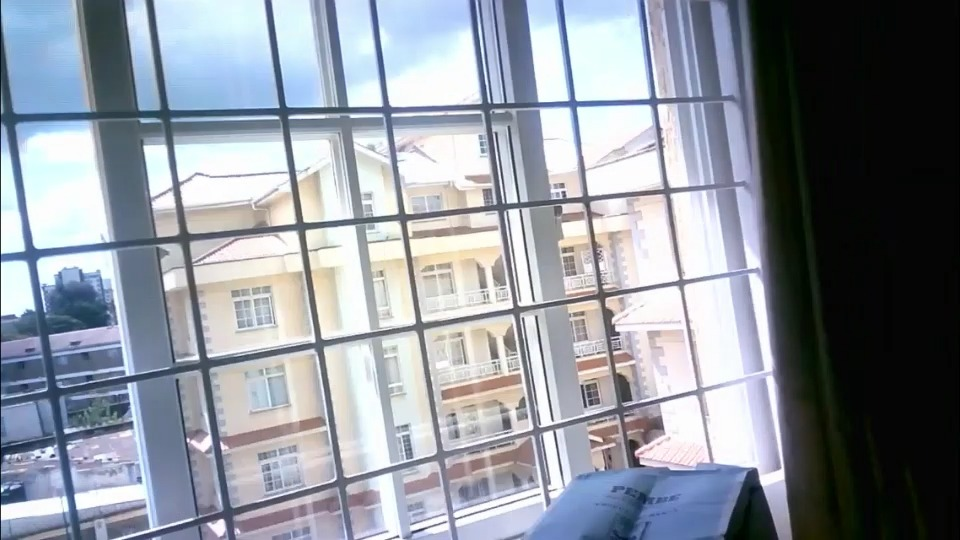wheat_flour_blue_label: (523, 470, 781, 540)
